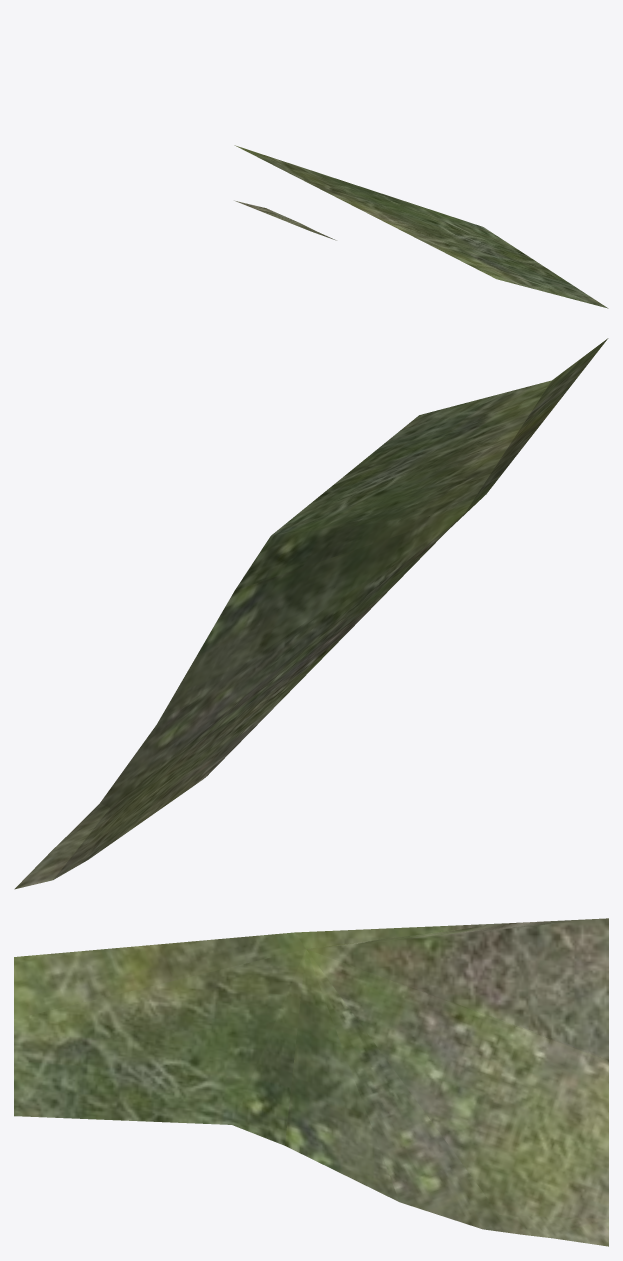
3 renders of one model, top to bottom at view 1: azimuth 30°, elevation 25°; view 2: azimuth 150°, elevation 25°; view 3: azimuth 270°, elevation 25°, orthographic. The views are drawn at different scales.
Size of the model in its own units: 1.25 by 1.21 by 2.95.
Materials: 2 (2 with a texture image).
